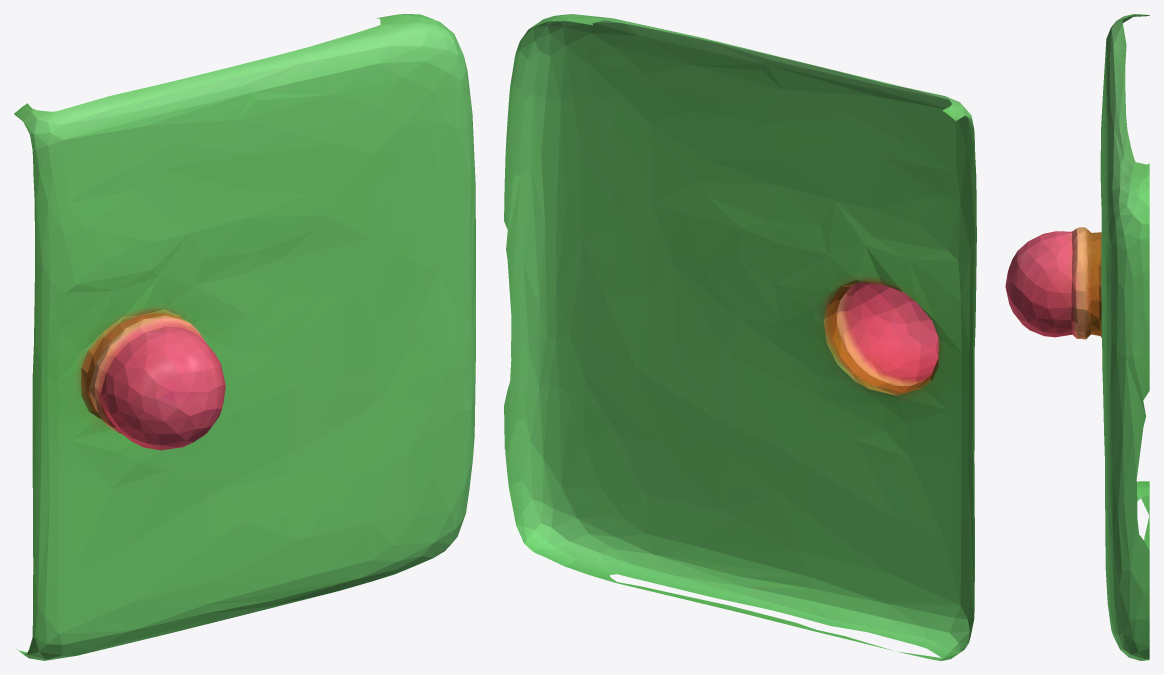
The model's file is door_right.glb.
The picture shows the model from 3 angles, left to right: view 1: azimuth 30°, elevation 25°; view 2: azimuth 150°, elevation 25°; view 3: azimuth 270°, elevation 25°; orthographic projection. The views are drawn at different scales.
Parts seen in each view (by area): view 1: source_surface_0; view 2: source_surface_0; view 3: source_surface_0.
Part boxes in pixels (<box>): source_surface_0: <box>14,14,475,660</box>; source_surface_0: <box>504,14,976,660</box>; source_surface_0: <box>1005,14,1149,660</box>.
Size of the model in its own units: 0.2057 by 0.2404 by 0.0653.
1 material, 1 textured.
